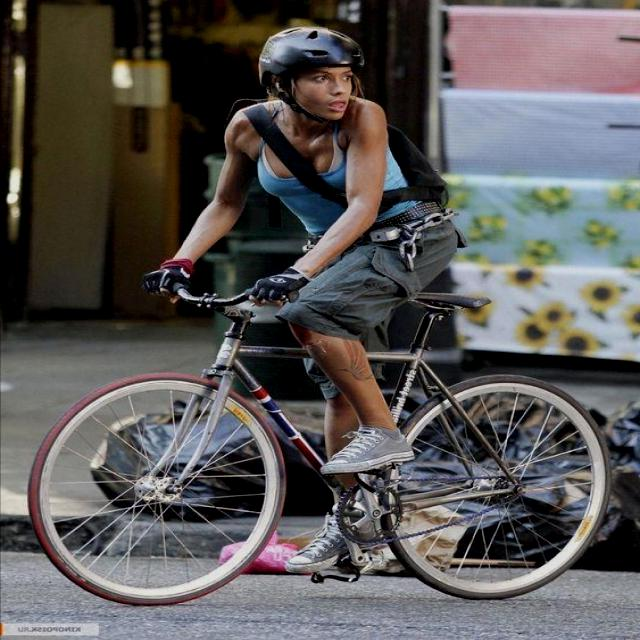helmet: (238, 19, 418, 91)
